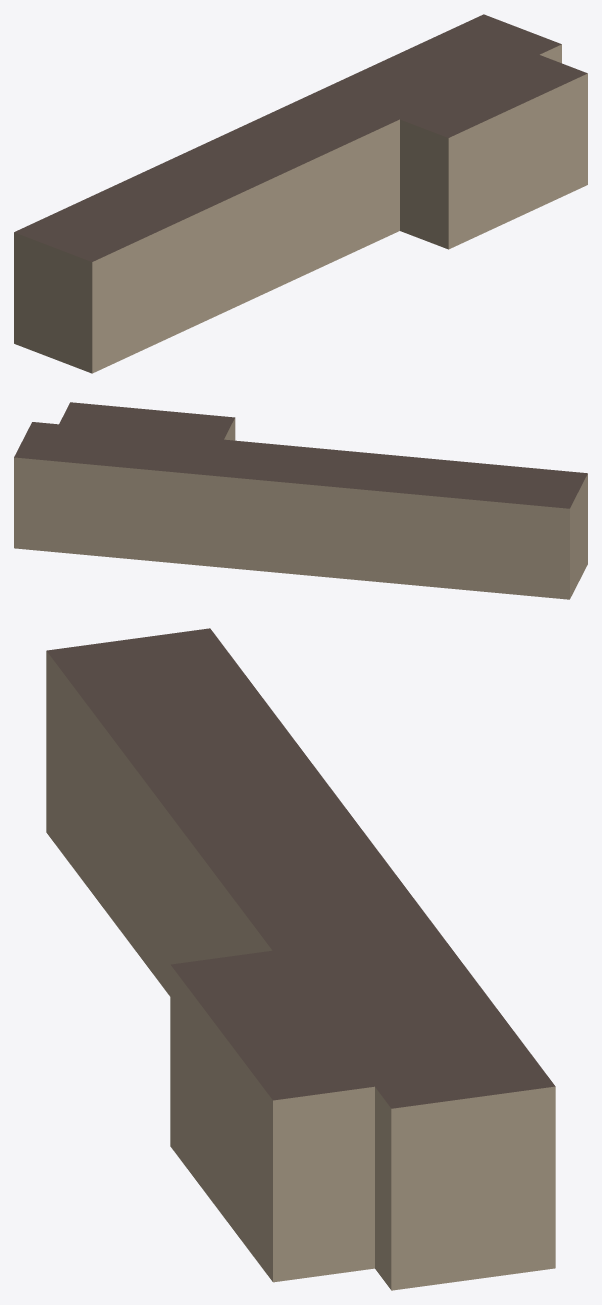
3 renders of one model, top to bottom at view 1: azimuth 30°, elevation 25°; view 2: azimuth 150°, elevation 25°; view 3: azimuth 270°, elevation 25°, orthographic. The views are drawn at different scales.
Parts seen in each view (by area): view 1: HP-w859467737; view 2: HP-w859467737; view 3: HP-w859467737.
Boxes of the visible parts, x1,y1,x2,y2 form: HP-w859467737: [14, 14, 587, 373]; HP-w859467737: [14, 402, 587, 599]; HP-w859467737: [46, 628, 555, 1290].
Bounding box in the file's own units: 50.99 × 9 × 22.84.
